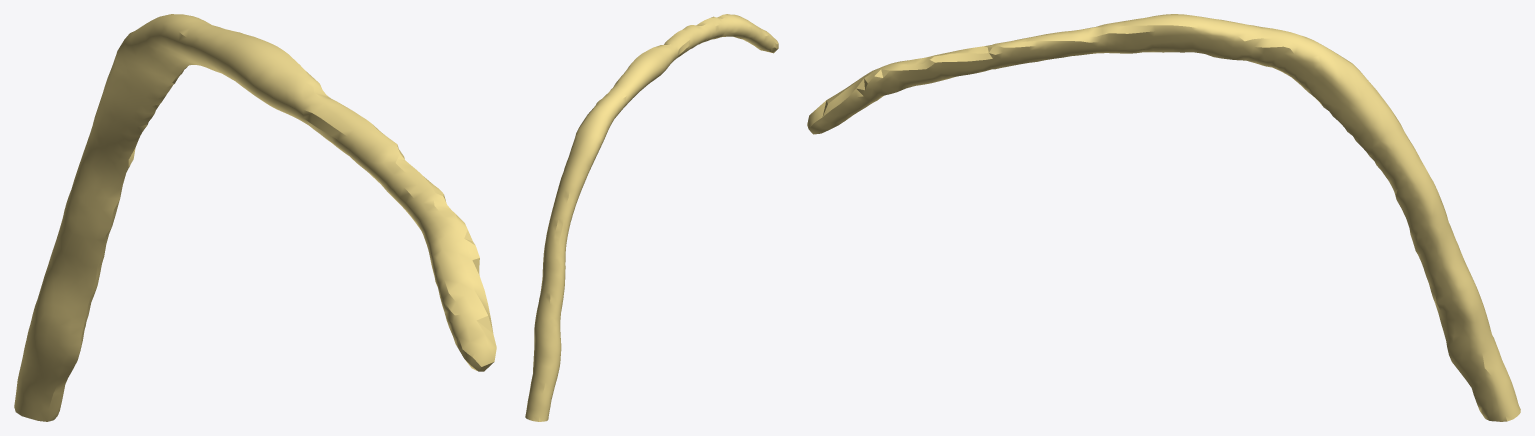
Rendered from fma72453-l_mm3552.glb.
3 views of the same model, side by side, from view 1: azimuth 30°, elevation 25°; view 2: azimuth 150°, elevation 25°; view 3: azimuth 270°, elevation 25° (orthographic). The views are drawn at different scales.
Visible parts, largest first — view 1: FMA72453-L_MM3552; view 2: FMA72453-L_MM3552; view 3: FMA72453-L_MM3552.
Boxes of the visible parts, x1,y1,x2,y2 form: FMA72453-L_MM3552: (14,14,496,421); FMA72453-L_MM3552: (525,14,778,421); FMA72453-L_MM3552: (807,14,1520,421).
Bounding box in the file's own units: 0.0019 × 0.0144 × 0.0231.
